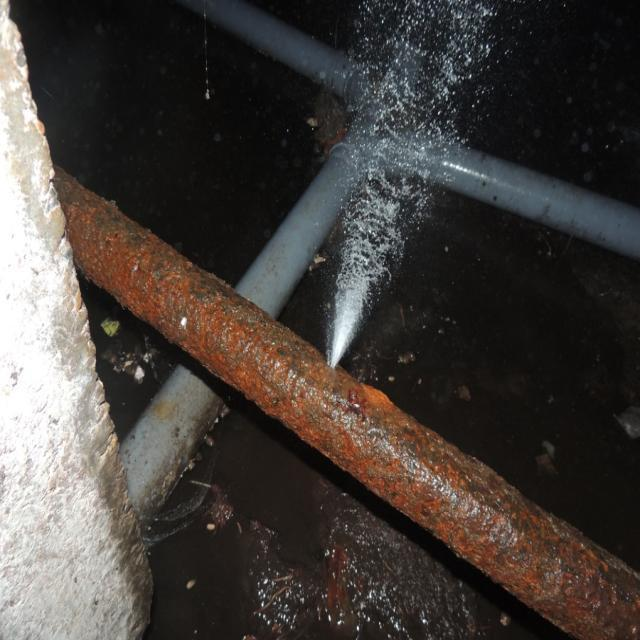pipe burst: (321, 0, 518, 374)
water accumulation: (82, 286, 572, 640)
